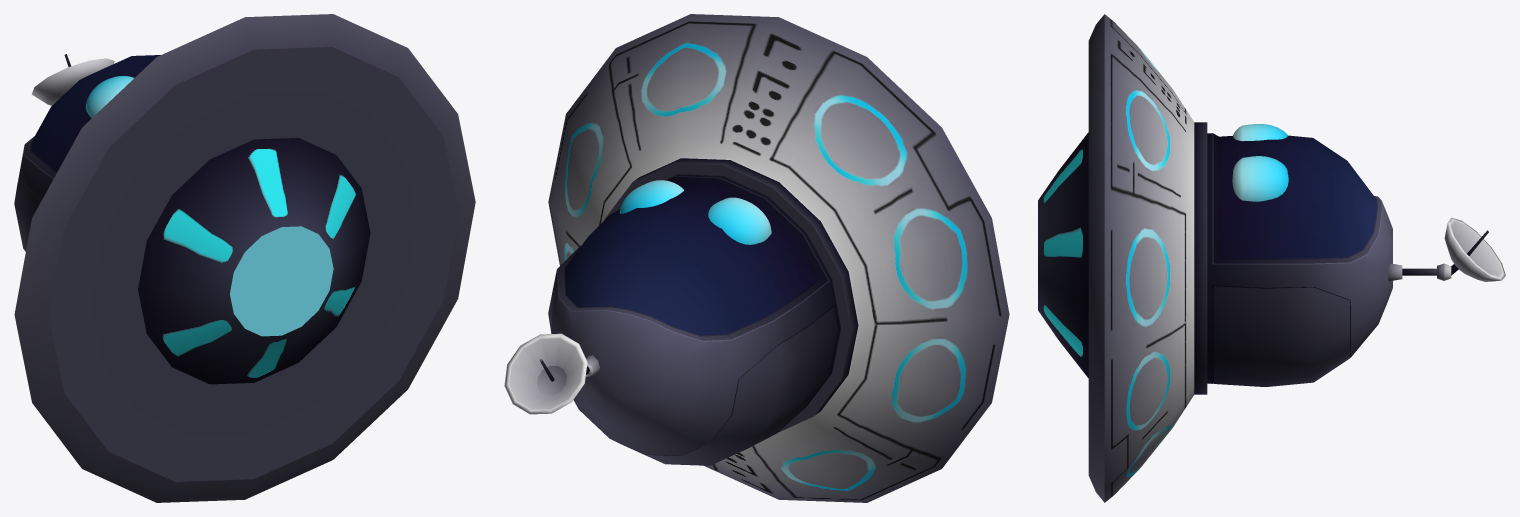
File: Robot_Helper_Retexture.fbx
The picture shows the model from 3 angles, left to right: view 1: azimuth 30°, elevation 25°; view 2: azimuth 150°, elevation 25°; view 3: azimuth 270°, elevation 25°; orthographic projection. The views are drawn at different scales.
Visible parts, largest first — view 1: antenna Base.001; view 2: antenna Base.001; view 3: antenna Base.001.
Boxes of the visible parts, x1,y1,x2,y2 form: antenna Base.001: (14,14,475,502); antenna Base.001: (504,14,1009,502); antenna Base.001: (1038,14,1505,502).
Bounding box in the file's own units: 286 × 286 × 273.
